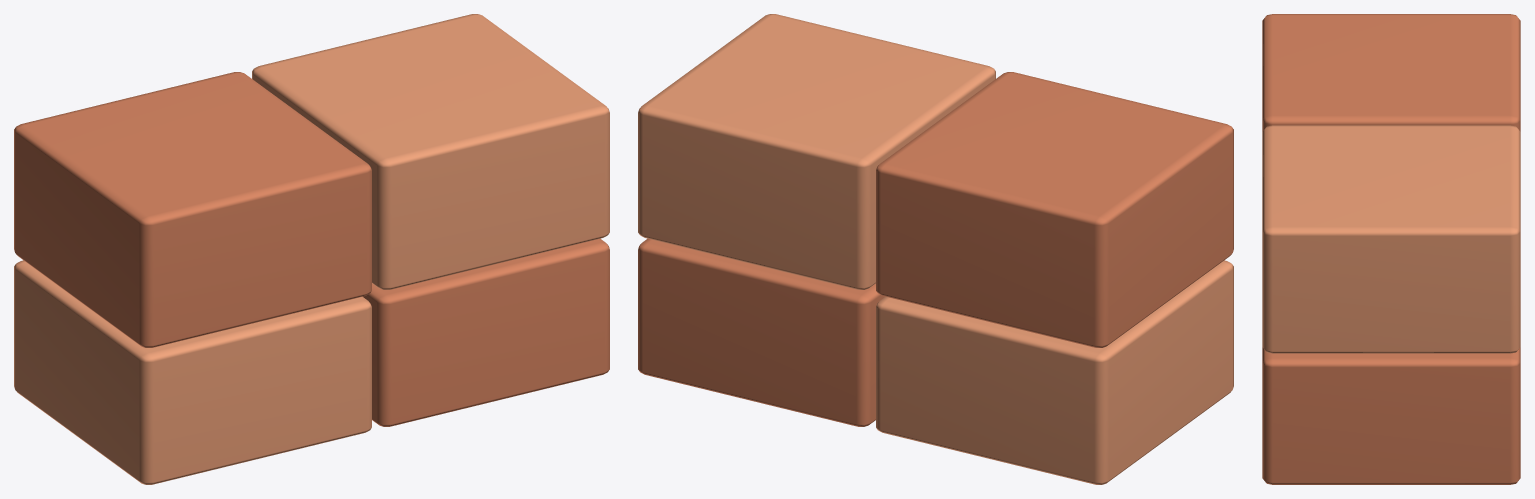
Rendered from wall_terracotta_2m.glb.
3 renders of one model, left to right at view 1: azimuth 30°, elevation 25°; view 2: azimuth 150°, elevation 25°; view 3: azimuth 270°, elevation 25°, orthographic. The views are drawn at different scales.
Parts seen in each view (by area): view 1: Clay brick.002, Clay brick.003, Clay brick, Clay brick.001; view 2: Clay brick.002, Clay brick.003, Clay brick, Clay brick.001; view 3: Clay brick.003, Clay brick.001, Clay brick.002.
Boxes of the visible parts, x1,y1,x2,y2 form: Clay brick.002: [14, 72, 371, 347]; Clay brick.003: [252, 14, 609, 289]; Clay brick: [14, 260, 371, 484]; Clay brick.001: [363, 238, 609, 426]; Clay brick.002: [876, 72, 1233, 347]; Clay brick.003: [638, 14, 995, 289]; Clay brick: [876, 260, 1233, 484]; Clay brick.001: [638, 238, 884, 426]; Clay brick.003: [1262, 125, 1520, 353]; Clay brick.001: [1262, 347, 1520, 484]; Clay brick.002: [1262, 14, 1520, 131].
Size of the model in its own units: 1.98 by 1.07 by 0.98.
